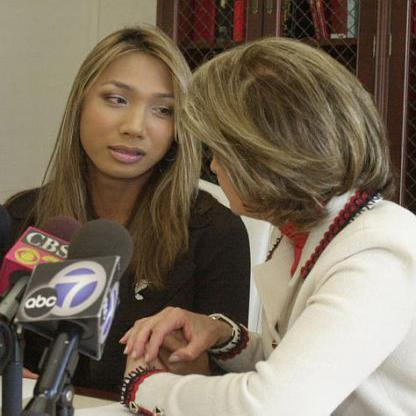face: (82, 34, 186, 181)
